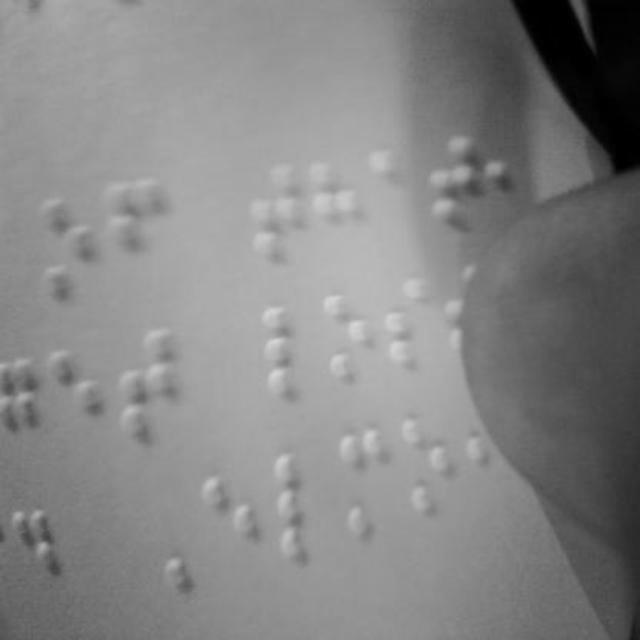braiile: (270, 444, 334, 566), (8, 494, 68, 614), (398, 406, 462, 518), (118, 330, 178, 446), (38, 186, 100, 298), (45, 344, 111, 448), (106, 170, 166, 282), (245, 154, 301, 262), (368, 143, 422, 253), (338, 426, 392, 534), (203, 474, 259, 578), (382, 278, 438, 382), (429, 130, 479, 244), (322, 289, 380, 387), (307, 154, 359, 262), (260, 300, 316, 396), (1, 354, 41, 462)
